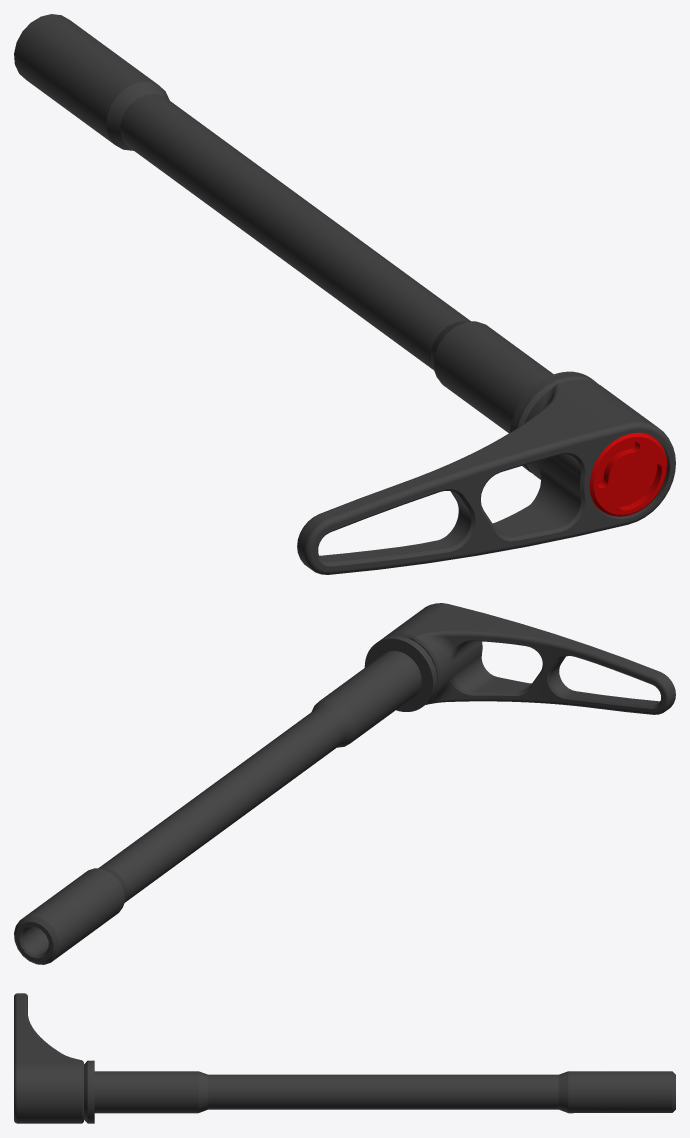
The model's file is rear_axle.obj.
3 views of the same model, one above another, from view 1: azimuth 30°, elevation 25°; view 2: azimuth 150°, elevation 25°; view 3: azimuth 270°, elevation 25° (orthographic). The views are drawn at different scales.
Parts seen in each view (by area): view 1: Solid1, Solid1:1, Solid1:2; view 2: Solid1, Solid1:1, Solid1:4; view 3: Solid1, Solid1:1, Solid1:4.
Part boxes in pixels (bbox=[...]): Solid1: bbox=[14, 14, 597, 473]; Solid1:1: bbox=[297, 379, 675, 574]; Solid1:2: bbox=[589, 432, 667, 516]; Solid1: bbox=[14, 635, 437, 964]; Solid1:1: bbox=[382, 603, 675, 714]; Solid1:4: bbox=[364, 637, 435, 711]; Solid1: bbox=[84, 1060, 675, 1123]; Solid1:1: bbox=[14, 993, 83, 1123]; Solid1:4: bbox=[91, 1060, 94, 1123].
Bounding box in the file's own units: 69 × 18 × 189.
